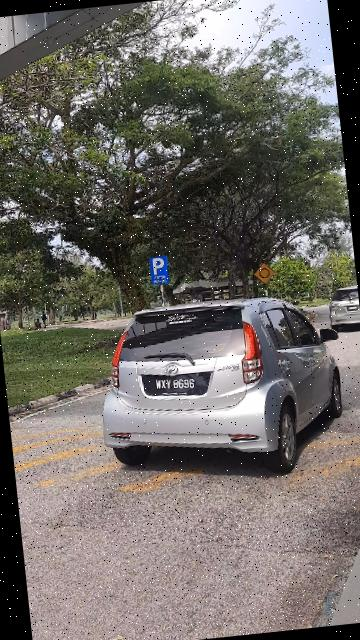License_Plate: (142, 367, 216, 404)
car: (91, 287, 358, 494)
